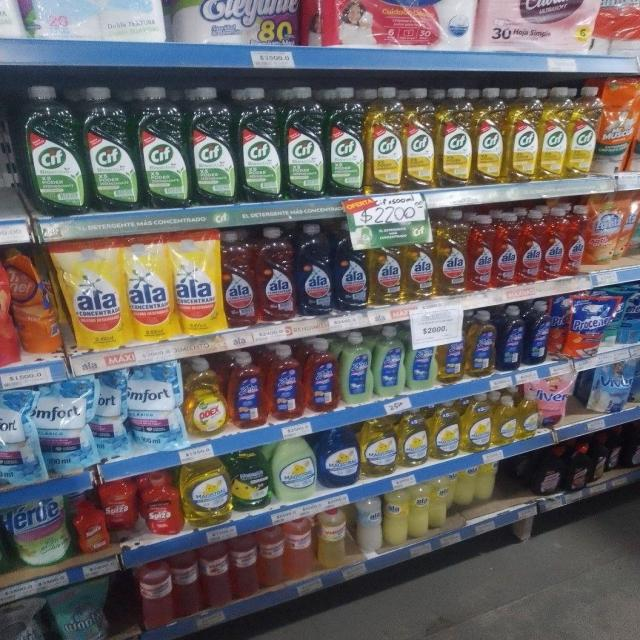ala_conc_amarillo: (436, 211, 466, 296), (368, 233, 402, 306), (403, 232, 433, 301)
ala_conc_azul: (296, 223, 332, 316), (334, 222, 367, 312)
ala_conc_rojo: (256, 226, 294, 322), (223, 229, 256, 329), (140, 471, 180, 536), (468, 213, 493, 291), (518, 210, 542, 284), (494, 212, 517, 288), (543, 206, 564, 280), (565, 205, 586, 276)
ala_crem_amarillo: (384, 486, 408, 546), (410, 482, 430, 538), (430, 475, 450, 531)
ala_crem_blanco: (356, 494, 382, 553)
ala_sachet_amarillo: (62, 238, 125, 351), (128, 233, 174, 341), (175, 230, 222, 334)
cif_conc_bot_amarilla: (366, 85, 403, 194), (437, 86, 472, 188), (404, 87, 435, 190), (506, 86, 538, 183), (474, 86, 504, 186), (540, 86, 568, 181), (569, 85, 595, 179)
cif_conc_botella_verde: (21, 85, 84, 216), (85, 86, 136, 212), (138, 86, 187, 210), (190, 86, 236, 206), (238, 86, 281, 203), (283, 85, 325, 200), (326, 86, 364, 197)
magistral_con_amarillo: (182, 457, 230, 527), (361, 415, 397, 477), (398, 408, 428, 468), (429, 400, 459, 460), (462, 394, 491, 453), (493, 395, 516, 445), (518, 388, 538, 439)
magistral_con_azul: (318, 426, 358, 488)
magistral_con_crema: (273, 436, 316, 502)
odex: (186, 358, 226, 438)
zorro: (228, 350, 265, 429), (266, 344, 302, 422), (304, 338, 337, 414), (340, 330, 372, 406), (374, 324, 404, 398), (465, 309, 495, 378)
